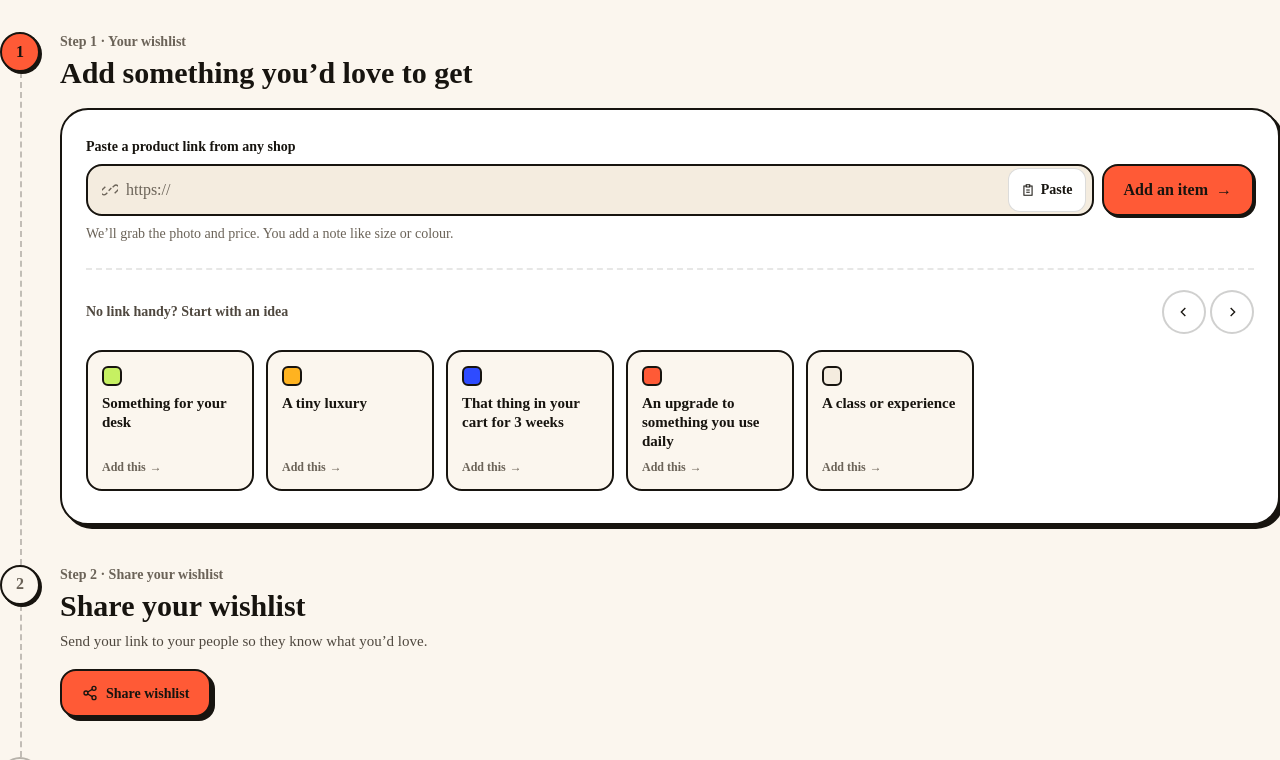
Test: keeps sharing incomplete when copying is denied
The image size is (1280, 760).
What coordinates should you click on to do the following:
click the button "Share wishlist"
I would click on:
 (136, 693)
Its box is [60,669,211,717].
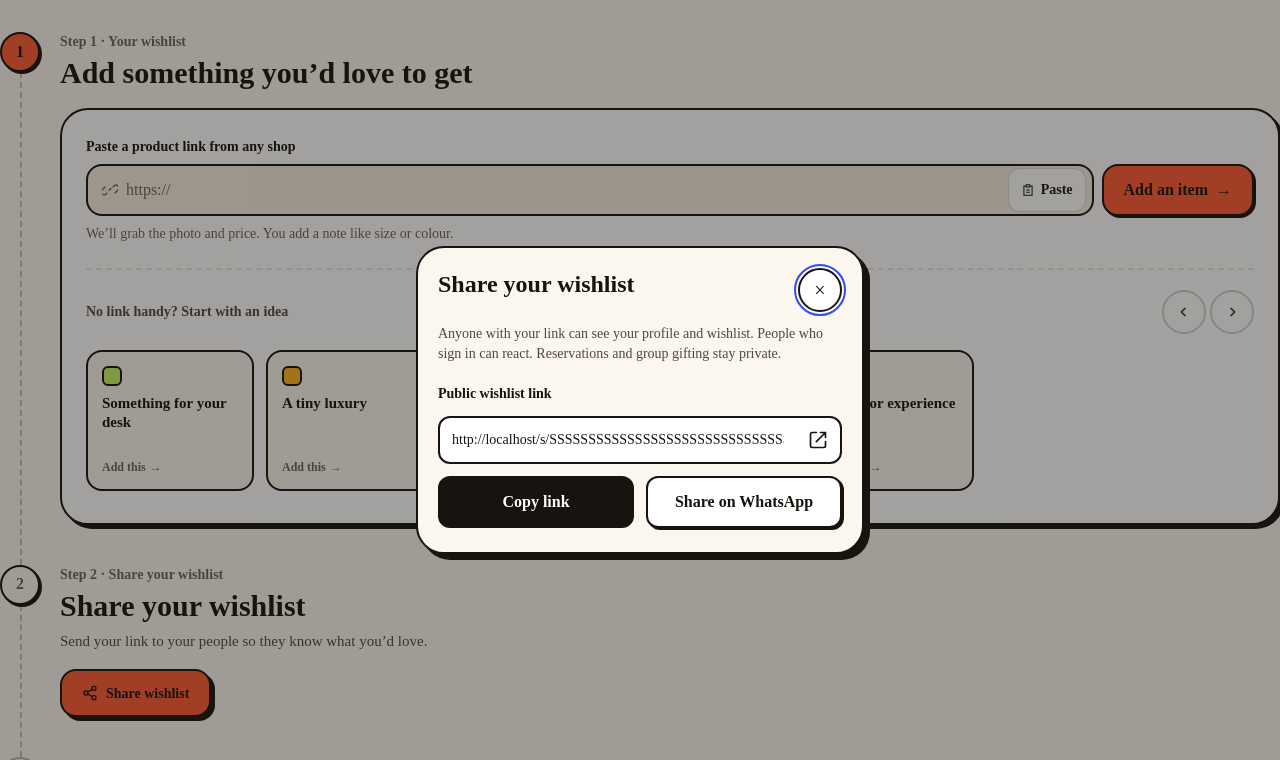
What coordinates should you click on to do the following:
click the button "Copy link"
I would click on:
 (536, 502)
Its box is [438,476,634,528].
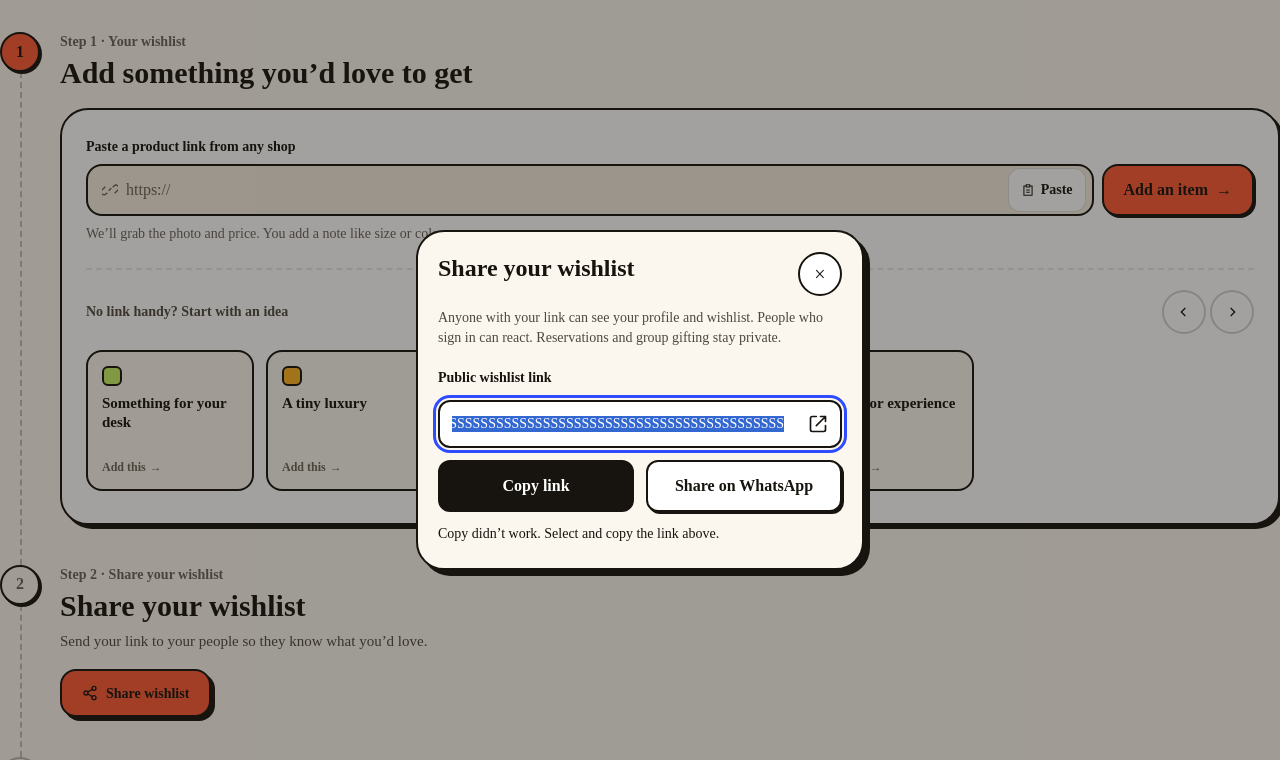
Expected: the text "Copy didn’t work. Select and copy the link above." is shown, [438,526,719,541]
